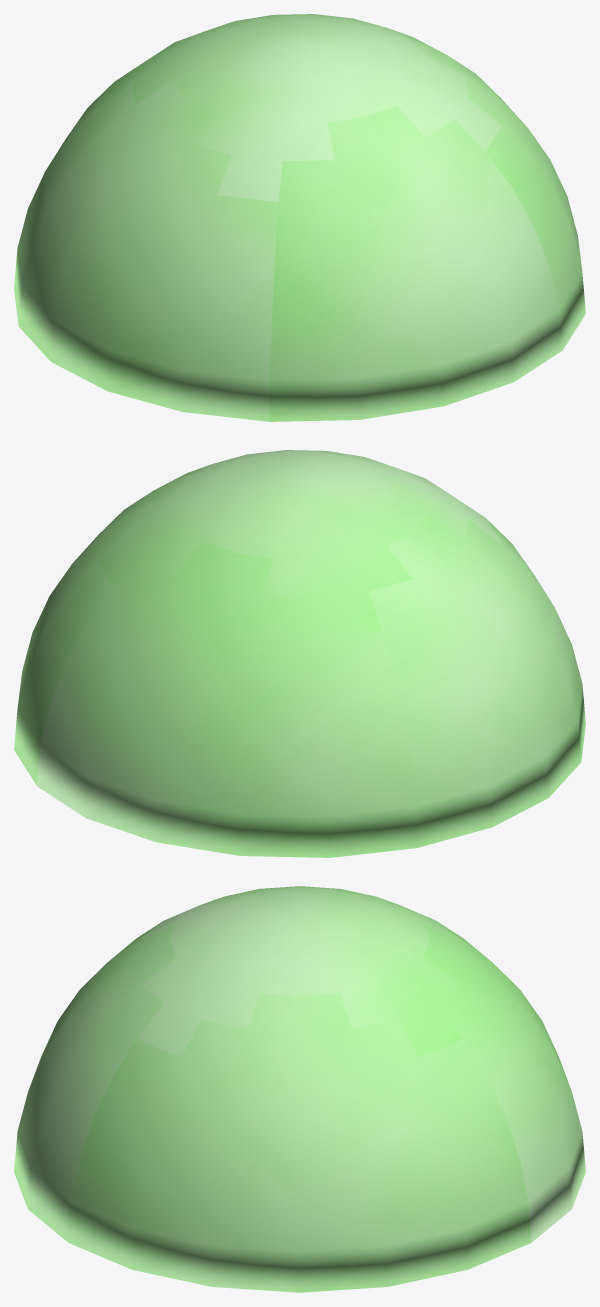
Rendered from Checkpoint_center.fbx.
The picture shows the model from 3 angles, top to bottom: view 1: azimuth 30°, elevation 25°; view 2: azimuth 150°, elevation 25°; view 3: azimuth 270°, elevation 25°; orthographic projection.
Visible parts, largest first — view 1: pSphere1; view 2: pSphere1; view 3: pSphere1.
Boxes of the visible parts, left/top/right/bottom form: pSphere1: left=14, top=14, right=585, bottom=421; pSphere1: left=14, top=450, right=585, bottom=857; pSphere1: left=14, top=886, right=585, bottom=1292.
Bounding box in the file's own units: 2.67 × 1.33 × 2.67.
